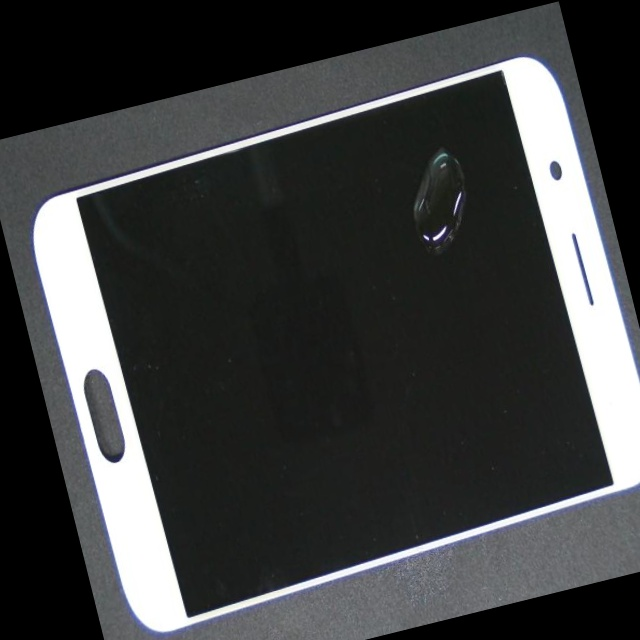oil: (185, 75, 627, 375)
